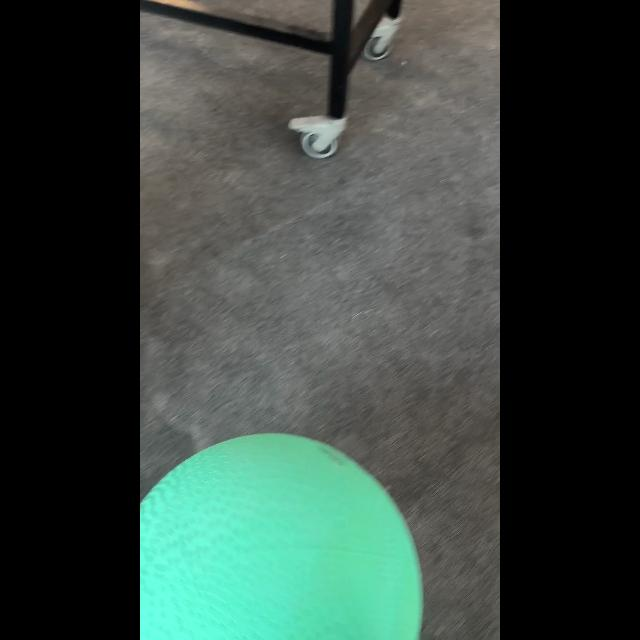ALGAE: (140, 432, 424, 638)
